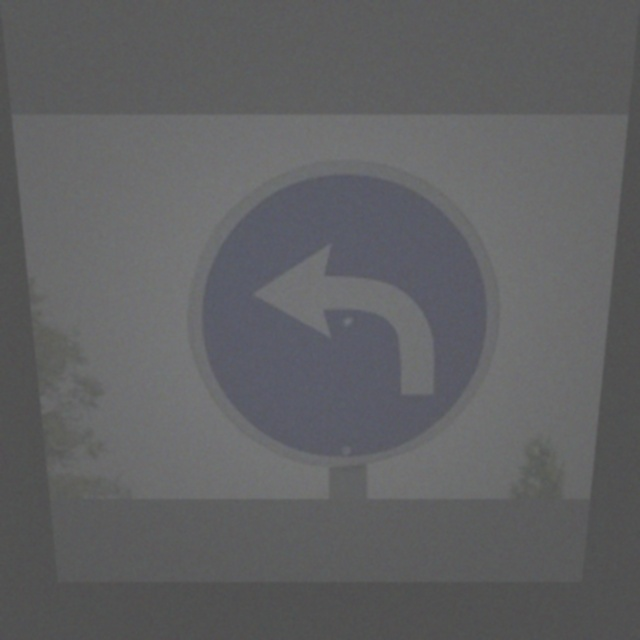Compulsory_Turn_Left_Ahead: (186, 157, 506, 464)
